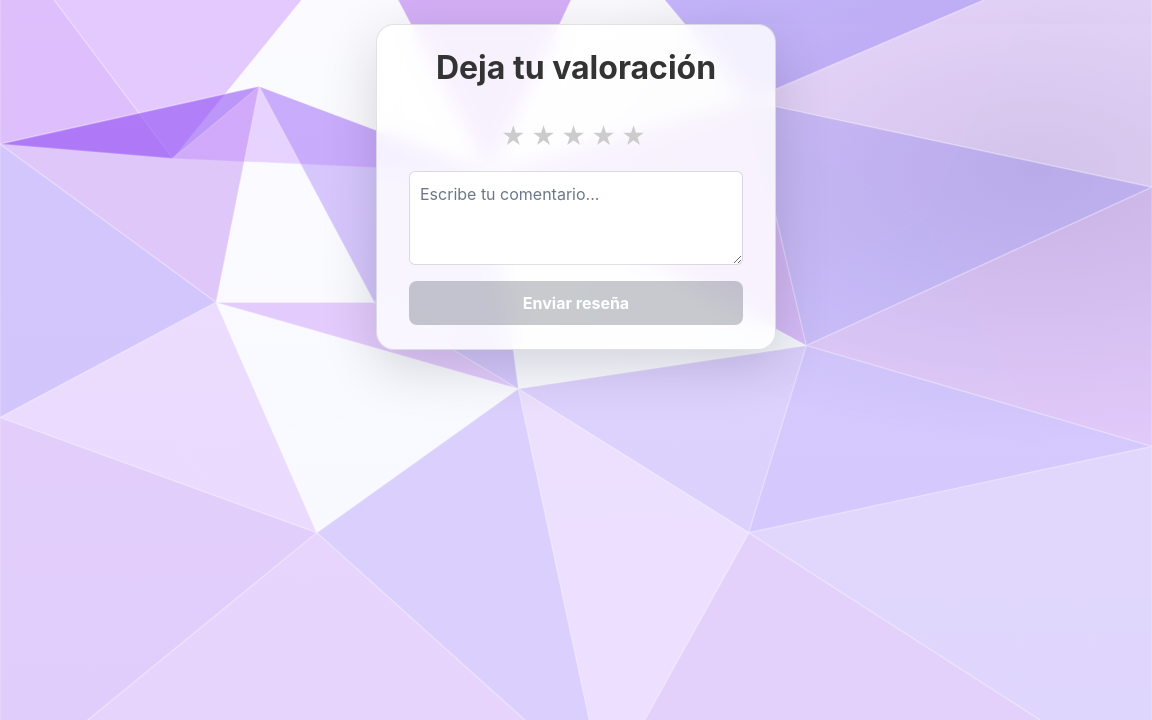
Test case: Valoraciones - Alto Impacto › Envío exitoso › envía reseña y limpia formulario
Click the 4th text "★": click(604, 137) [591, 122, 616, 151]
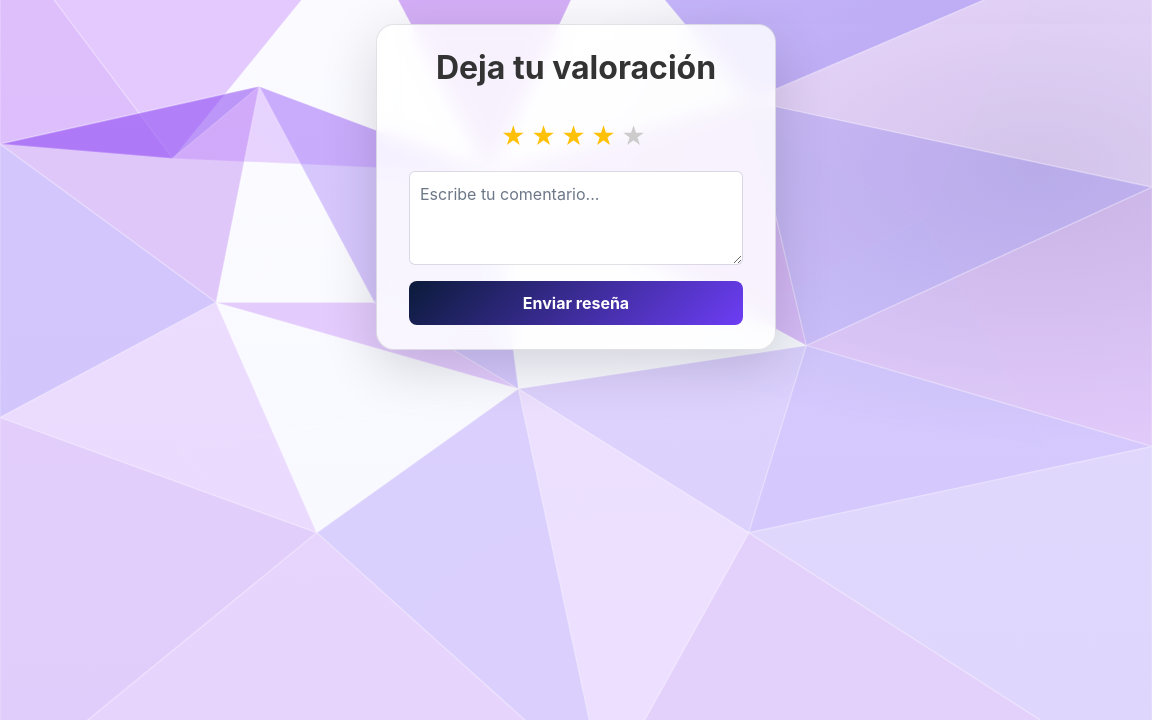
In the text box with placeholder "Escribe tu comentario...": (576, 218) [409, 171, 743, 265], type "Muy bueno"
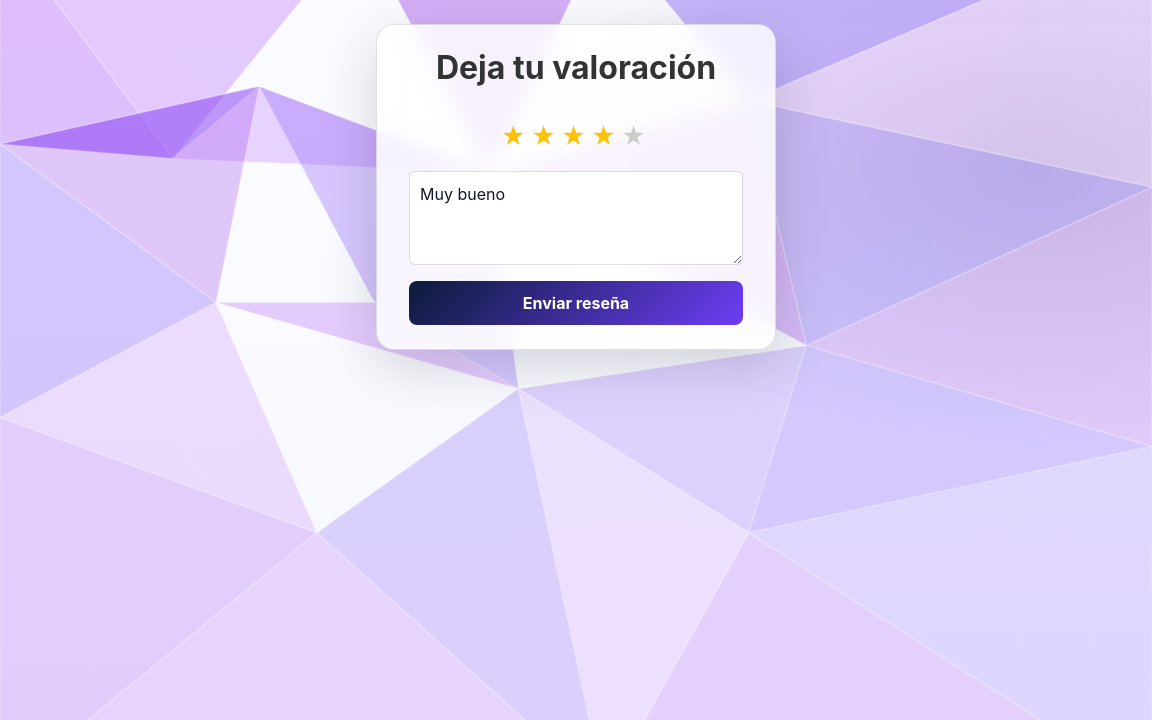
Click the button "Enviar reseña": click(576, 303) [409, 281, 743, 325]
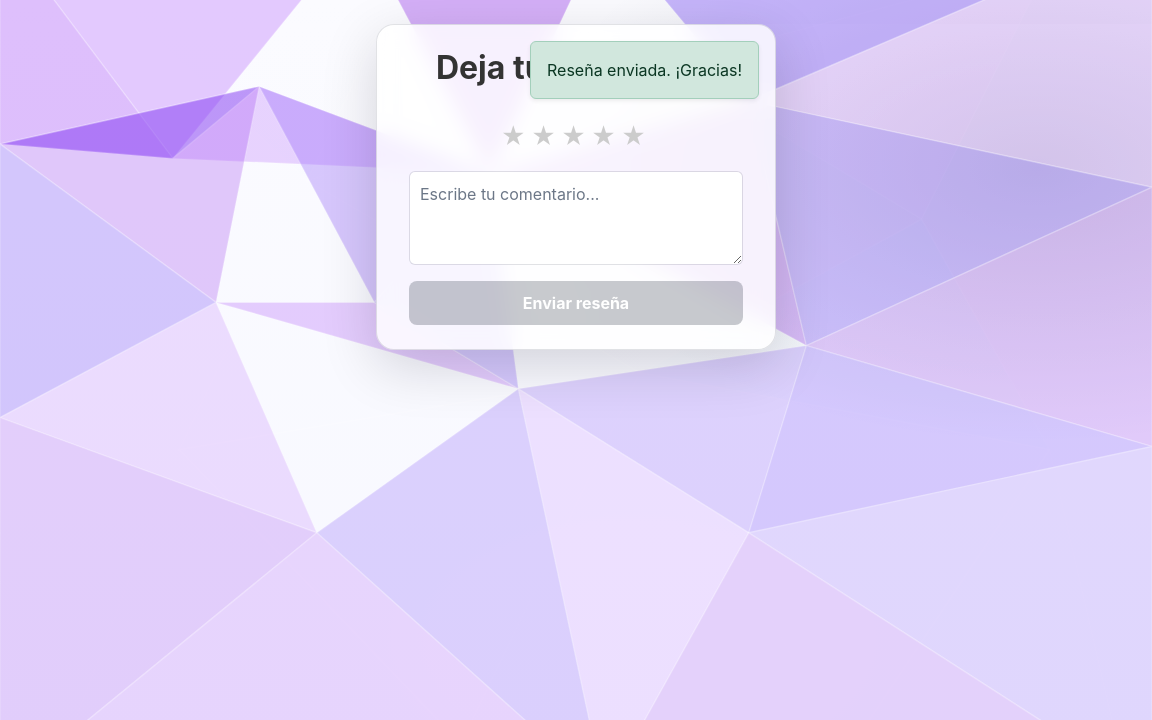
Expected: the text "Reseña enviada. ¡Gracias!" is shown, [530, 41, 759, 99]
